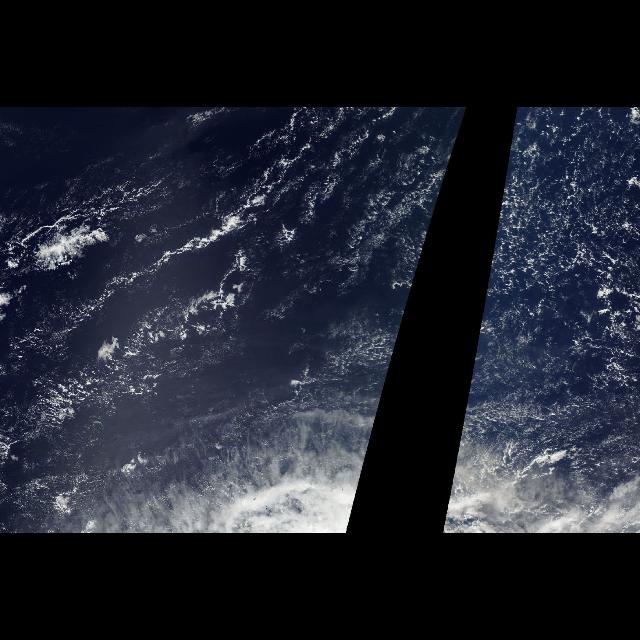Fish: (9, 111, 441, 425)
Gravel: (484, 108, 640, 498)
